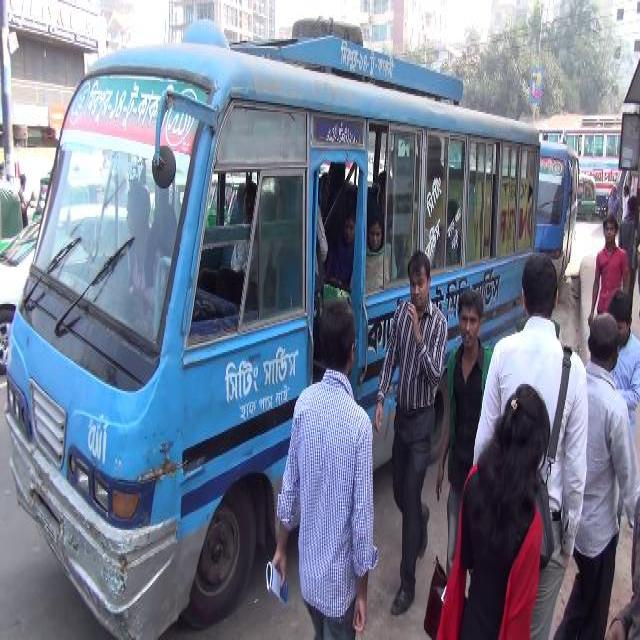vehicle: (8, 42, 539, 639), (1, 200, 147, 389), (542, 126, 631, 229), (540, 137, 582, 309), (1, 174, 27, 252), (578, 173, 601, 227)
